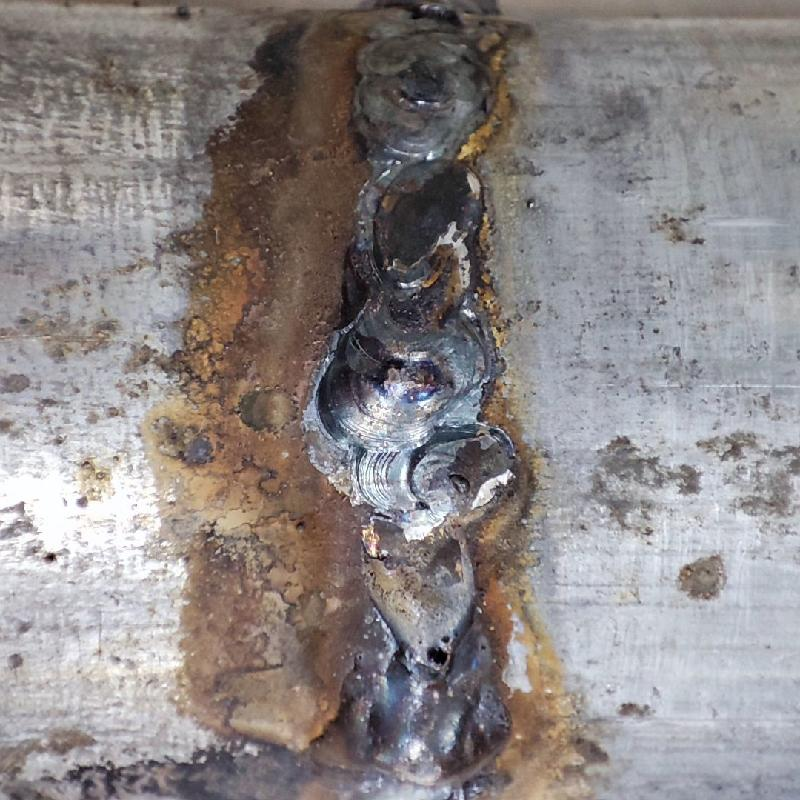crater: (334, 442, 514, 682)
wrong_size: (324, 30, 509, 444)
